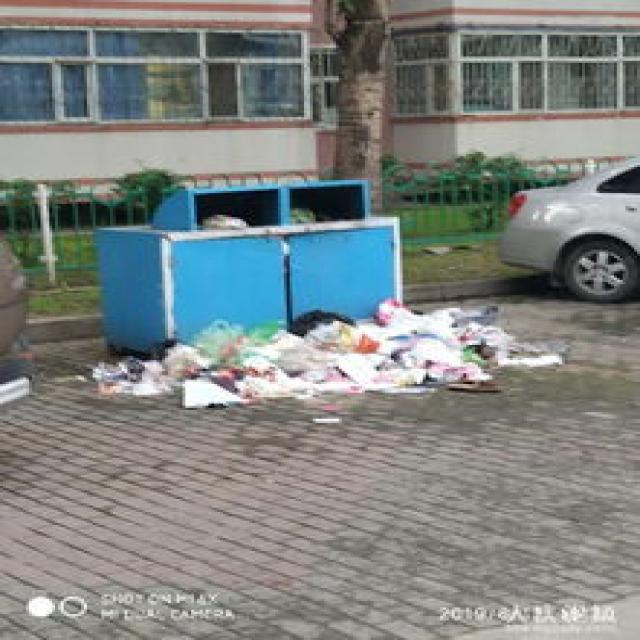garbage: (90, 295, 562, 406)
